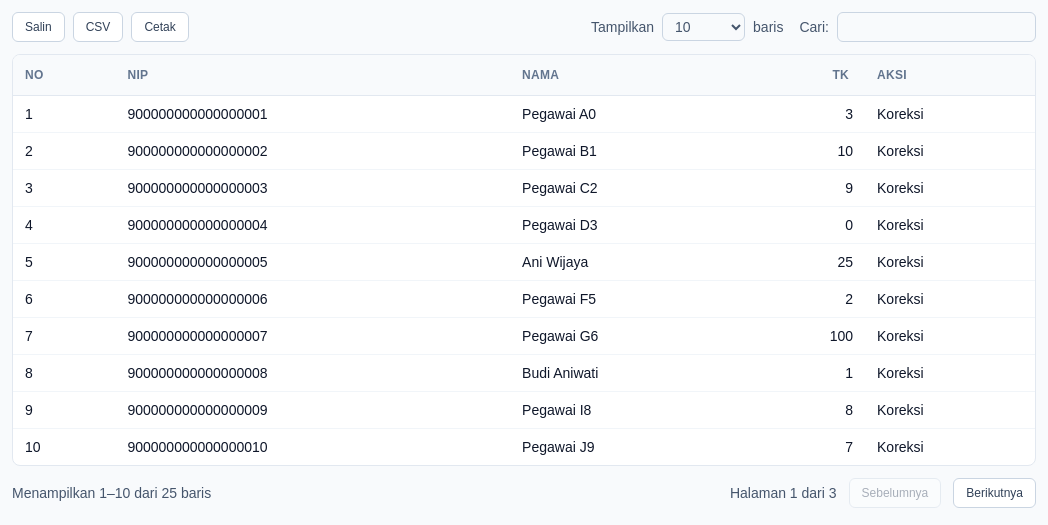
Test case: TabelLaporan › pencarian: semua kata harus cocok, tidak peka huruf besar/kecil; ringkasan menyebut total
The width and height of the screenshot is (1048, 525).
Type "ANI w" into the search field labelled "Cari:".
click(936, 27); type("ANI w")  # box x1=837 y1=12 x2=1036 y2=42
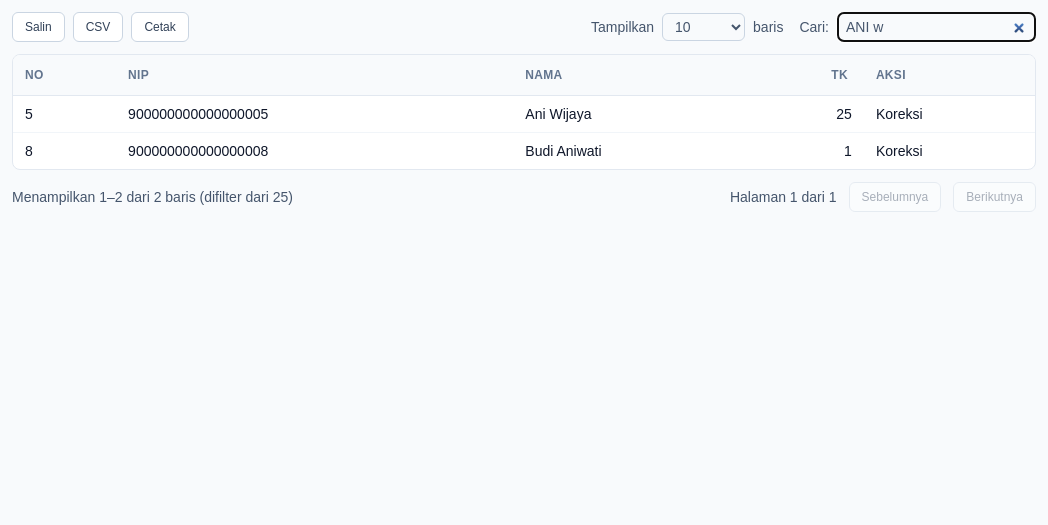
Check: the text "Menampilkan 1–2 dari 2 baris (difilter dari 25)" is shown, box x1=12 y1=187 x2=293 y2=207
